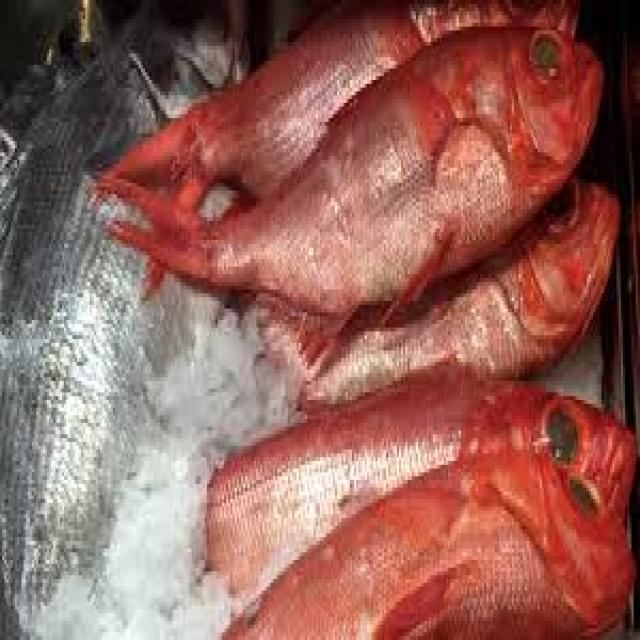northern-red-snapper: (89, 14, 605, 308), (169, 362, 640, 591), (205, 400, 640, 640), (256, 198, 625, 394)
